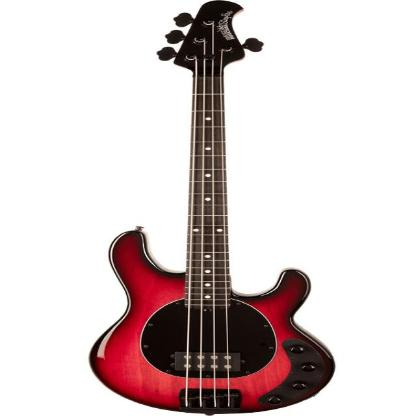bass: (88, 1, 335, 416)
